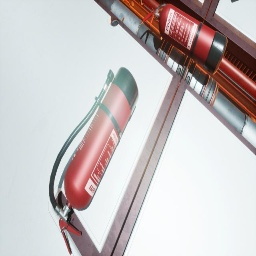FireExtinguisher ]: (49, 67, 139, 255), (143, 3, 228, 74)
